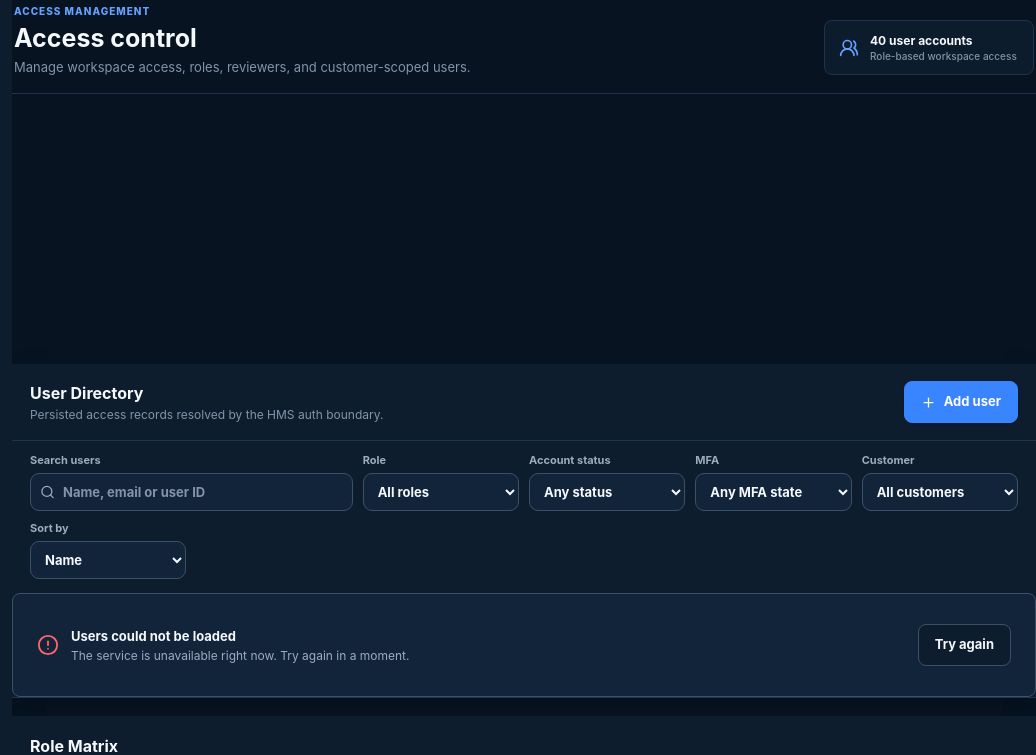
Test case: states › shows a safe error with Try again, and keeps the filters
Check: the message shows "Users could not be loaded", box top-left (71, 628), bottom-right (236, 644)
Step 1. Click the button "Try again" → [964, 645], box top-left (918, 624), bottom-right (1011, 666)
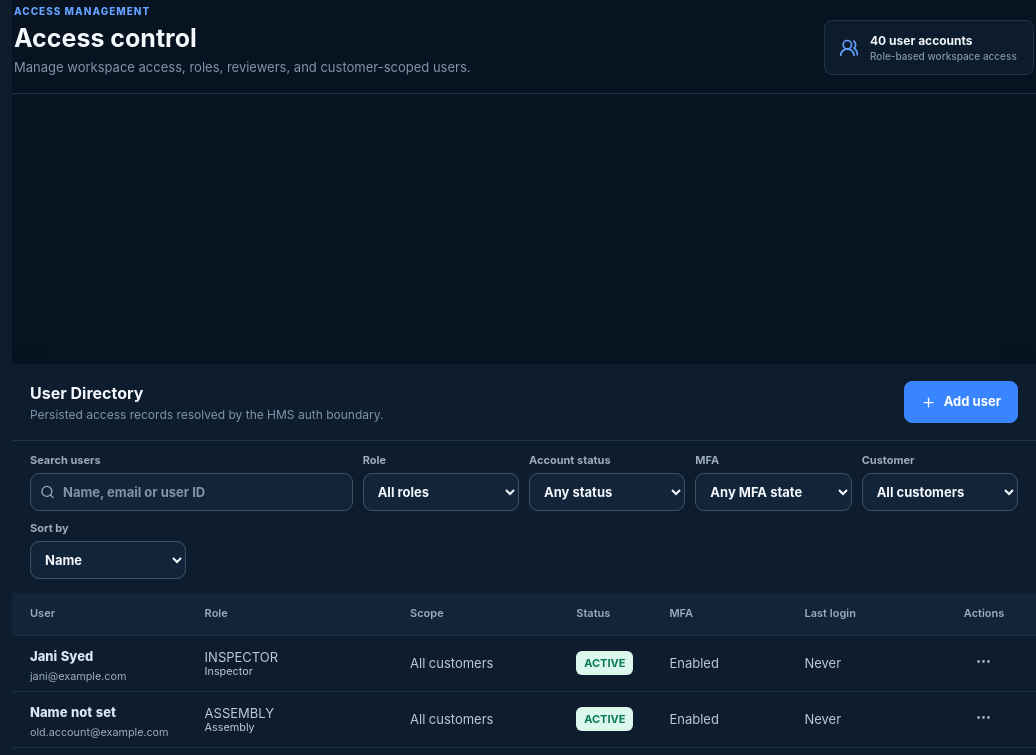
Check: the text "Jani Syed" is shown, box top-left (30, 644), bottom-right (93, 668)
